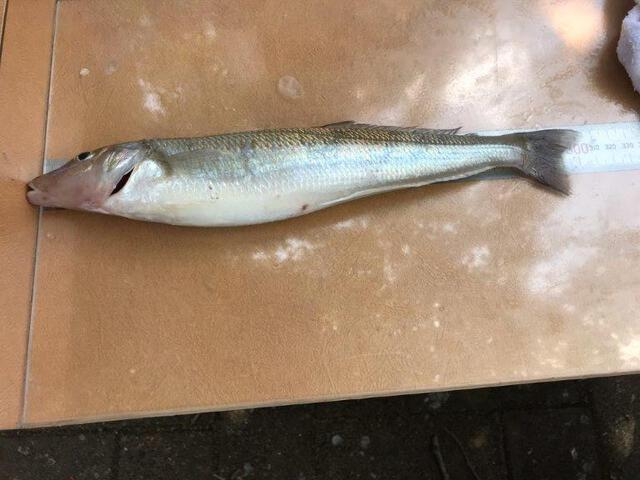kiss: (20, 115, 587, 239)
